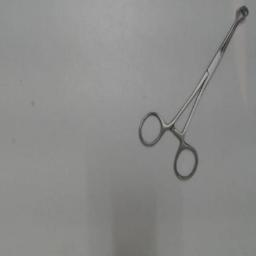Babcock Tissue Forceps: (136, 3, 252, 185)
